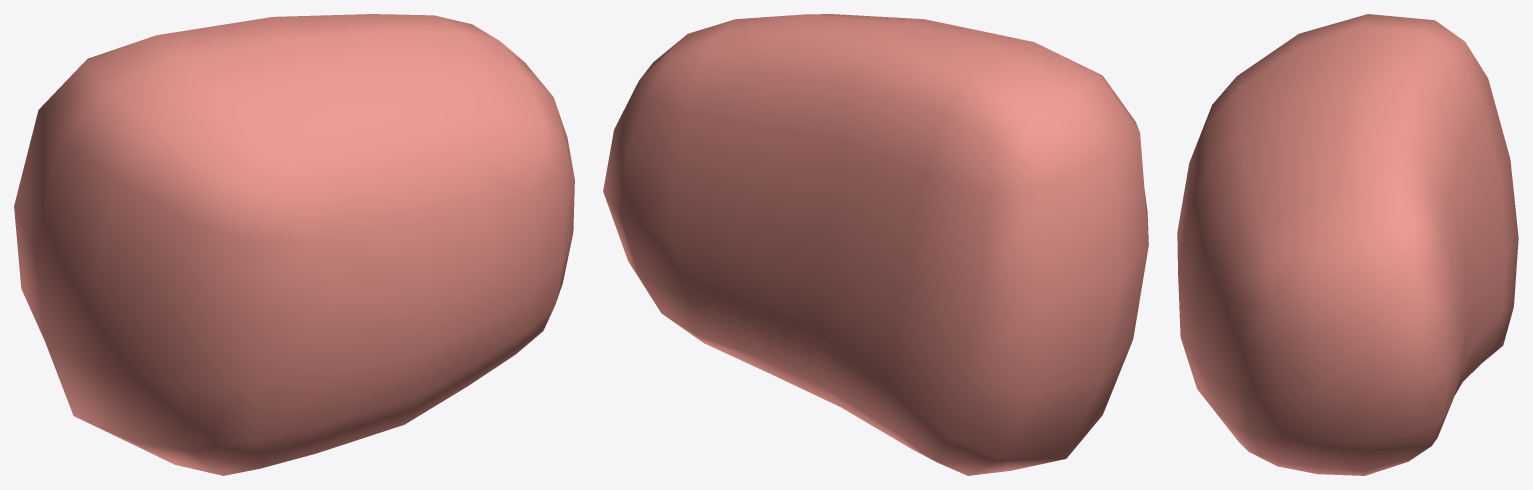
The model's file is mixamo_humanoid_surface_leftHandPinky3.fbx.
3 renders of one model, left to right at view 1: azimuth 30°, elevation 25°; view 2: azimuth 150°, elevation 25°; view 3: azimuth 270°, elevation 25°, orthographic. The views are drawn at different scales.
Visible parts, largest first — view 1: surface_LeftHandPinky3; view 2: surface_LeftHandPinky3; view 3: surface_LeftHandPinky3.
Part boxes in pixels (x1=…): surface_LeftHandPinky3: x1=14, y1=14, x2=574, y2=475; surface_LeftHandPinky3: x1=603, y1=14, x2=1148, y2=475; surface_LeftHandPinky3: x1=1177, y1=14, x2=1518, y2=475.
Bounding box in the file's own units: 2.3 × 1.71 × 1.45.
